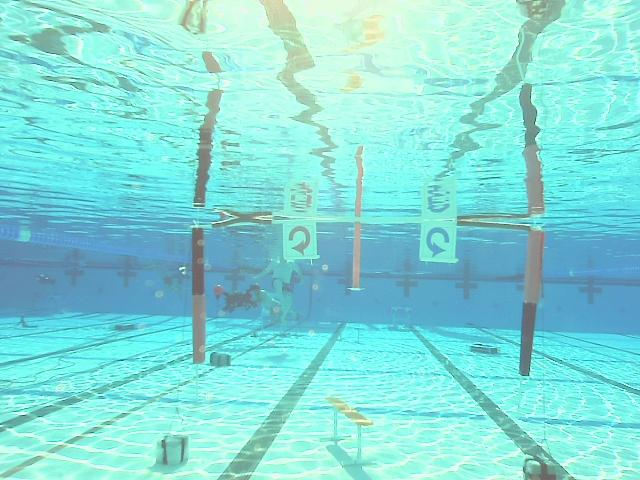buoy: (214, 285, 222, 300)
dropper: (470, 342, 498, 354), (114, 320, 139, 332)
gate: (192, 216, 545, 378)
gate_blue: (419, 220, 457, 262)
gate_leg_l: (192, 222, 207, 364)
gate_leg_r: (518, 225, 544, 377)
gate_red: (283, 219, 317, 260)
table: (388, 307, 413, 332)
